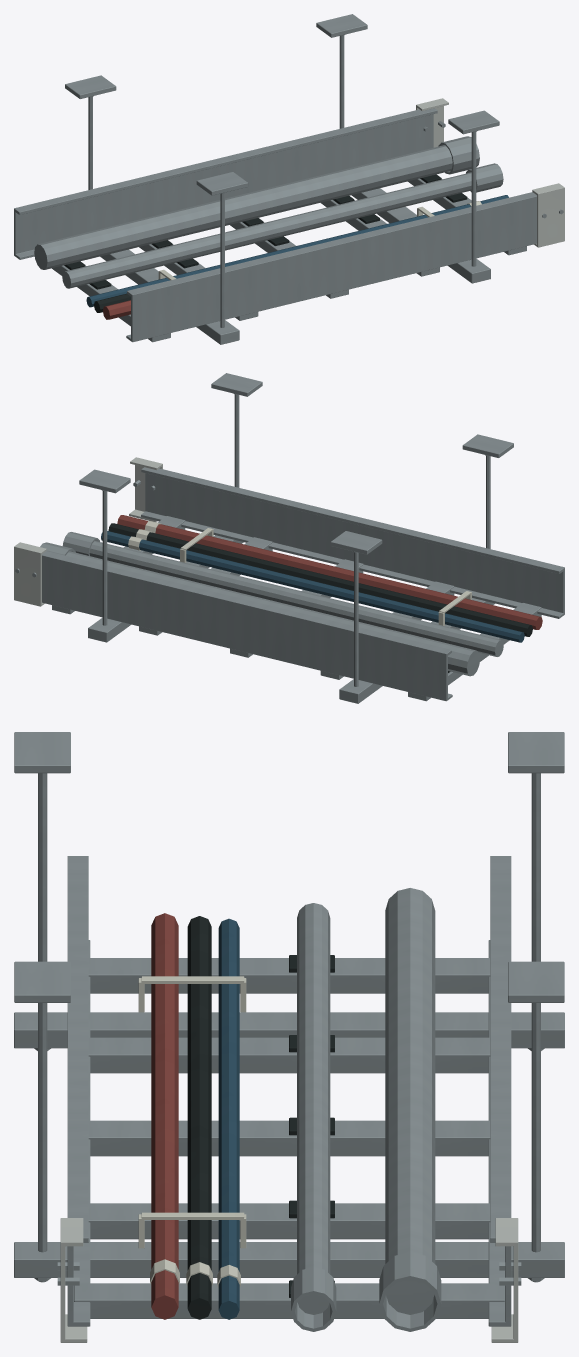
Rendered from AST-STF-004.glb.
The picture shows the model from 3 angles, top to bottom: view 1: azimuth 30°, elevation 25°; view 2: azimuth 150°, elevation 25°; view 3: azimuth 270°, elevation 25°; orthographic projection. The views are drawn at different scales.
Visible parts, largest first — view 1: AST-STF-004__staff_zinc, AST-STF-004__staff_white_paint, AST-STF-004__staff_cable_blue, AST-STF-004__staff_rubber; view 2: AST-STF-004__staff_zinc, AST-STF-004__staff_cable_blue, AST-STF-004__staff_cable_red, AST-STF-004__staff_rubber, AST-STF-004__staff_white_paint, AST-STF-004__staff_label; view 3: AST-STF-004__staff_zinc, AST-STF-004__staff_cable_red, AST-STF-004__staff_rubber, AST-STF-004__staff_cable_blue, AST-STF-004__staff_label, AST-STF-004__staff_white_paint.
Boxes of the visible parts, bbox=[...] form: AST-STF-004__staff_zinc: bbox=[14, 14, 563, 344]; AST-STF-004__staff_white_paint: bbox=[416, 98, 564, 247]; AST-STF-004__staff_cable_blue: bbox=[86, 195, 508, 307]; AST-STF-004__staff_rubber: bbox=[64, 174, 467, 312]; AST-STF-004__staff_zinc: bbox=[15, 373, 564, 703]; AST-STF-004__staff_cable_blue: bbox=[101, 531, 524, 642]; AST-STF-004__staff_cable_red: bbox=[117, 515, 542, 629]; AST-STF-004__staff_rubber: bbox=[108, 523, 532, 672]; AST-STF-004__staff_white_paint: bbox=[14, 457, 162, 606]; AST-STF-004__staff_label: bbox=[128, 521, 471, 625]; AST-STF-004__staff_zinc: bbox=[14, 732, 564, 1331]; AST-STF-004__staff_cable_red: bbox=[151, 913, 178, 1319]; AST-STF-004__staff_rubber: bbox=[187, 916, 334, 1319]; AST-STF-004__staff_cable_blue: bbox=[218, 918, 239, 1319]; AST-STF-004__staff_label: bbox=[138, 976, 246, 1287]; AST-STF-004__staff_white_paint: bbox=[60, 1218, 518, 1342].
Bounding box in the file's own units: 1.23 × 0.442 × 0.73.
6 materials, 6 textured.
